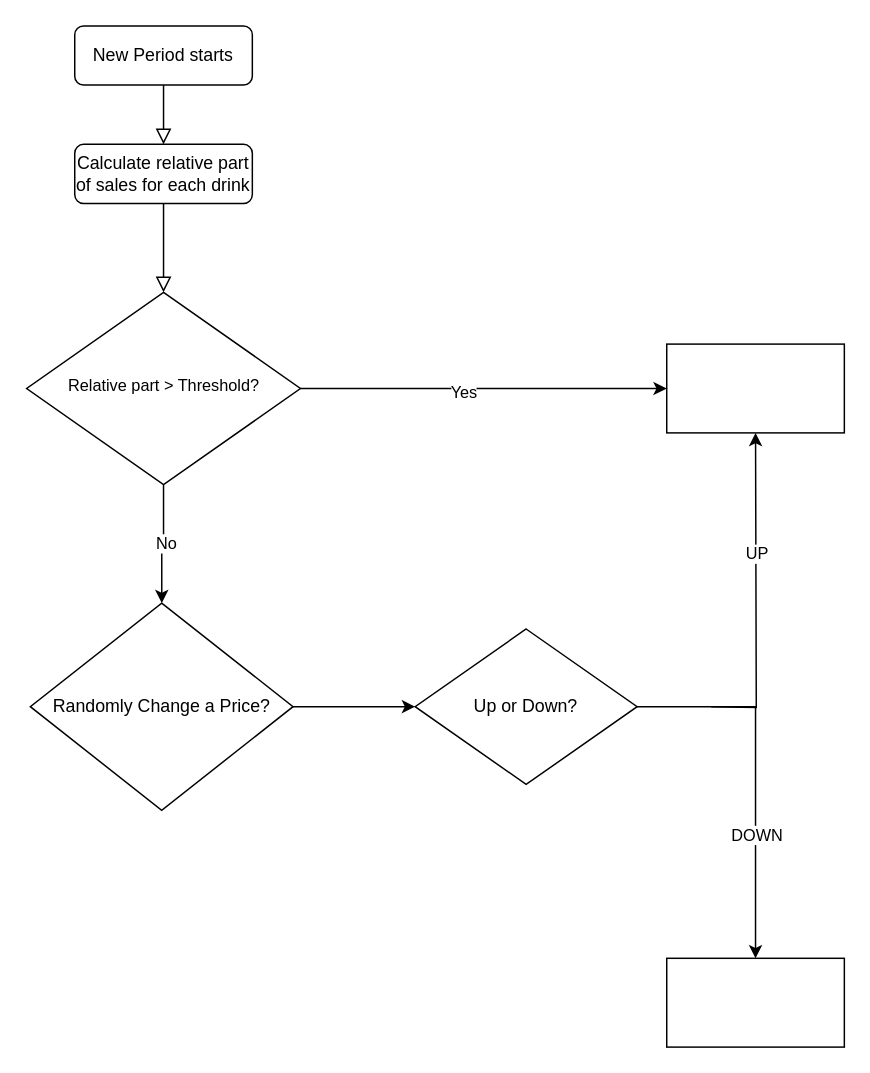
Some shapes in this 870 by 1073 pixel diagram are drawn without their labels. The shapes that lost their labels are listed below. From the top down, each one's centre as x and y in pixels, then its label:
At (x=754, y=388): "Increase Price".
At (x=754, y=1002): "Decrease Price".
